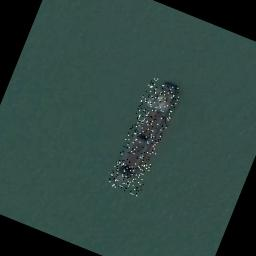boat: (107, 75, 183, 197)
